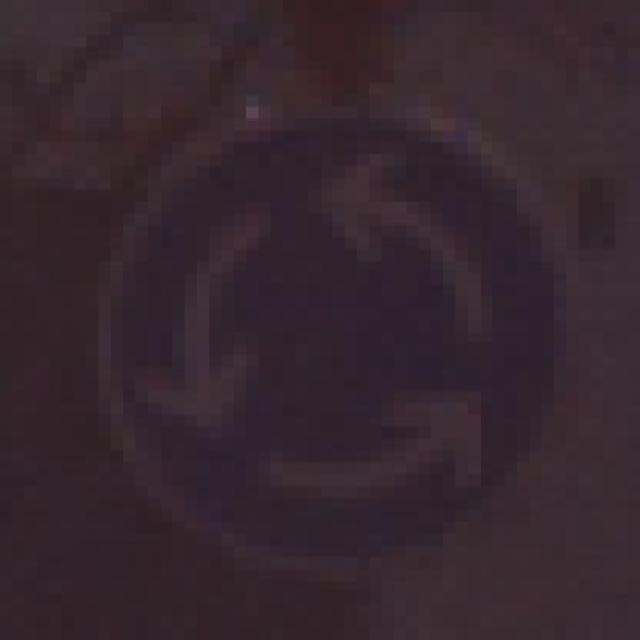Round-About: (62, 83, 590, 580)
